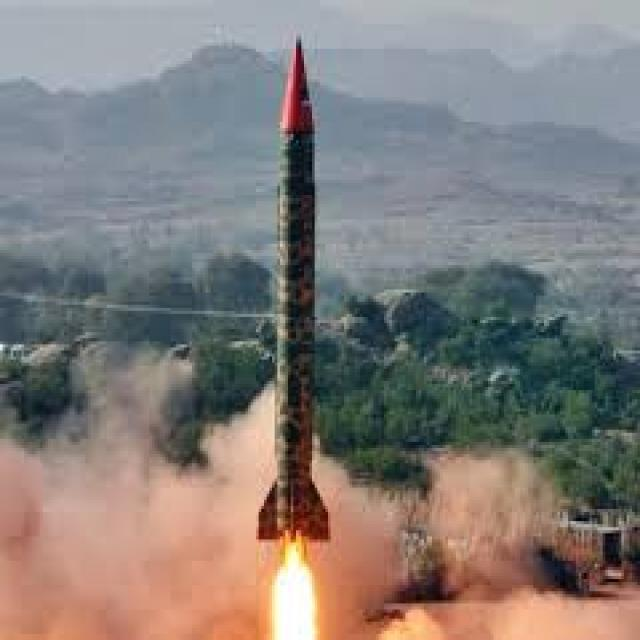missile: (250, 36, 336, 557)
